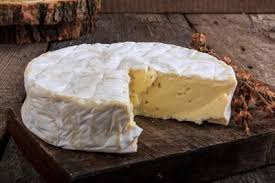camembert: (19, 40, 238, 156)
